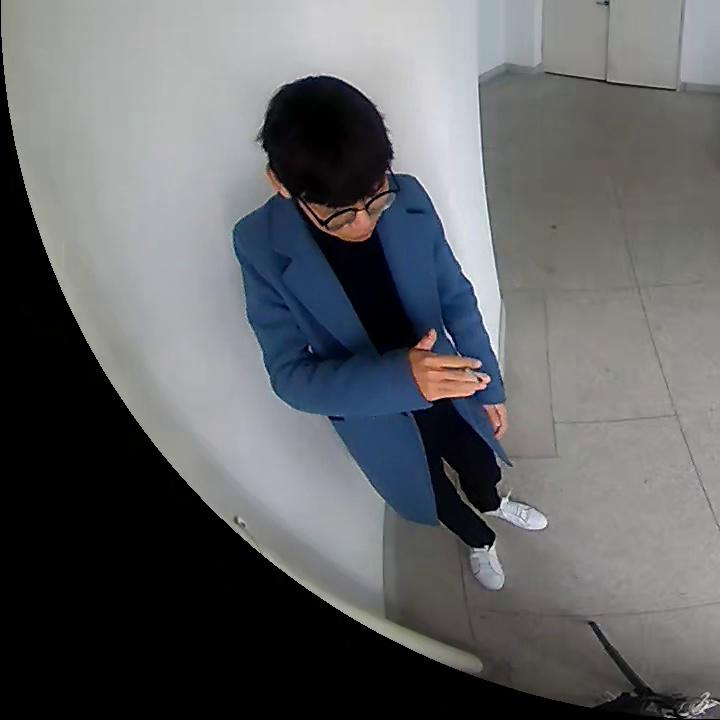handsmoke: (414, 332, 491, 399)
handwithoutsmoke: (481, 402, 512, 438)
mouthwithoutsmoke: (269, 82, 399, 241)
